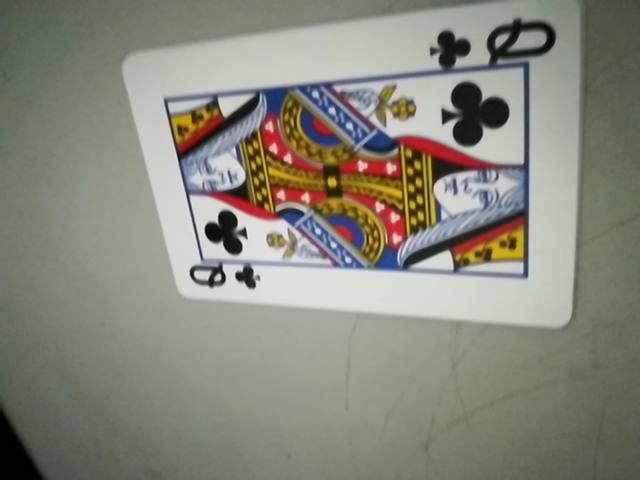mh q: (427, 16, 557, 72), (183, 255, 262, 300)
